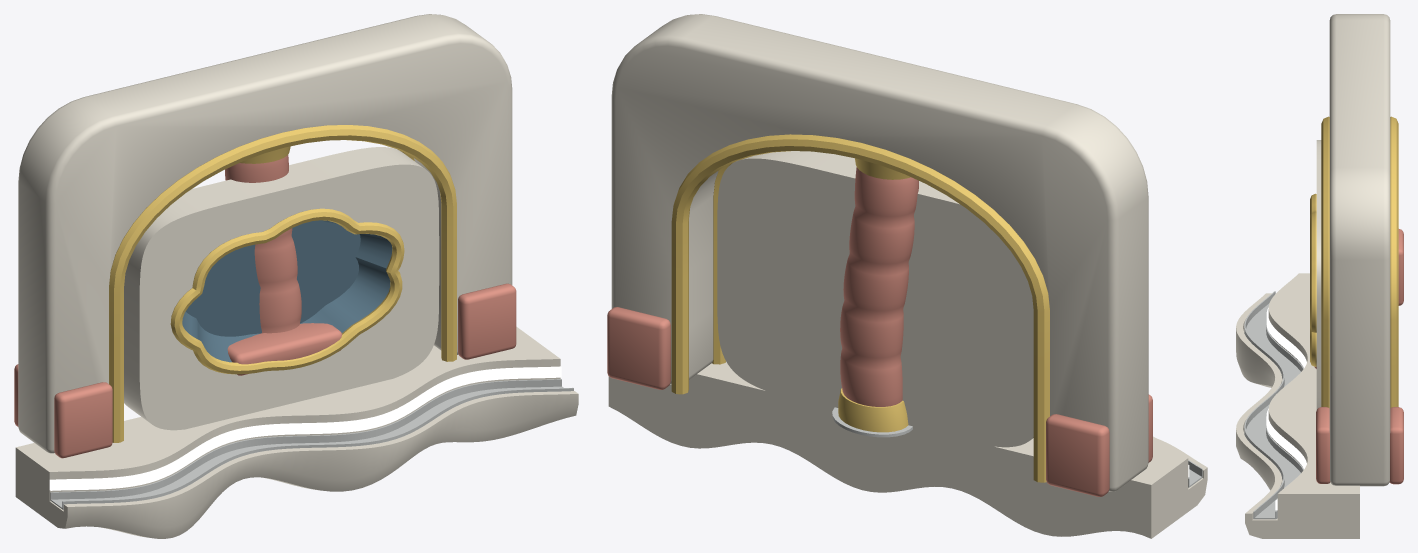
Rendered from playroom-architecture.glb.
3 renders of one model, left to right at view 1: azimuth 30°, elevation 25°; view 2: azimuth 150°, elevation 25°; view 3: azimuth 270°, elevation 25°, orthographic. The views are drawn at different scales.
Parts seen in each view (by area): view 1: ArchPassage — Painted wall plaster, CloudNiche — Painted wall plaster, WaveSoffit — Painted wall plaster, CloudNiche — Shadowed wall recess, ArchPassage — Glossy plastic trim, ArchPassage — Soft padded fabric, WaveSoffit — Brushed steel channel, CloudNiche — Glossy plastic trim, WaveSoffit — Warm light diffuser, PaddedColumn — Soft padded fabric, CloudNiche — Soft padded fabric; view 2: ArchPassage — Painted wall plaster, CloudNiche — Painted wall plaster, WaveSoffit — Painted wall plaster, ArchPassage — Glossy plastic trim, PaddedColumn — Soft padded fabric, ArchPassage — Soft padded fabric, PaddedColumn — Glossy plastic trim; view 3: ArchPassage — Painted wall plaster, WaveSoffit — Painted wall plaster, ArchPassage — Glossy plastic trim, WaveSoffit — Brushed steel channel, ArchPassage — Soft padded fabric, CloudNiche — Painted wall plaster, CloudNiche — Glossy plastic trim, WaveSoffit — Warm light diffuser.
Part boxes in pixels (left/top/right/bottom): ArchPassage — Painted wall plaster: left=18, top=14, right=512, bottom=453; CloudNiche — Painted wall plaster: left=124, top=147, right=439, bottom=430; WaveSoffit — Painted wall plaster: left=15, top=326, right=578, bottom=538; CloudNiche — Shadowed wall recess: left=182, top=220, right=392, bottom=362; ArchPassage — Glossy plastic trim: left=109, top=125, right=456, bottom=442; ArchPassage — Soft padded fabric: left=14, top=283, right=516, bottom=458; WaveSoffit — Brushed steel channel: left=50, top=379, right=573, bottom=509; CloudNiche — Glossy plastic trim: left=170, top=208, right=404, bottom=374; WaveSoffit — Warm light diffuser: left=49, top=366, right=561, bottom=490; PaddedColumn — Soft padded fabric: left=225, top=154, right=301, bottom=333; CloudNiche — Soft padded fabric: left=227, top=323, right=341, bottom=375; ArchPassage — Painted wall plaster: left=611, top=14, right=1148, bottom=491; CloudNiche — Painted wall plaster: left=717, top=151, right=1033, bottom=447; WaveSoffit — Painted wall plaster: left=608, top=361, right=1207, bottom=538; ArchPassage — Glossy plastic trim: left=671, top=134, right=1049, bottom=482; PaddedColumn — Soft padded fabric: left=840, top=167, right=918, bottom=406; ArchPassage — Soft padded fabric: left=607, top=307, right=1152, bottom=496; PaddedColumn — Glossy plastic trim: left=838, top=158, right=910, bottom=432; ArchPassage — Painted wall plaster: left=1329, top=14, right=1390, bottom=486; WaveSoffit — Painted wall plaster: left=1236, top=273, right=1359, bottom=538; ArchPassage — Glossy plastic trim: left=1321, top=116, right=1398, bottom=407; WaveSoffit — Brushed steel channel: left=1244, top=291, right=1303, bottom=519; ArchPassage — Soft padded fabric: left=1316, top=229, right=1403, bottom=484; CloudNiche — Painted wall plaster: left=1316, top=140, right=1321, bottom=409; CloudNiche — Glossy plastic trim: left=1310, top=193, right=1316, bottom=366; WaveSoffit — Warm light diffuser: left=1266, top=307, right=1306, bottom=510.
Bounding box in the file's own units: 12 × 8.95 × 3.86.
